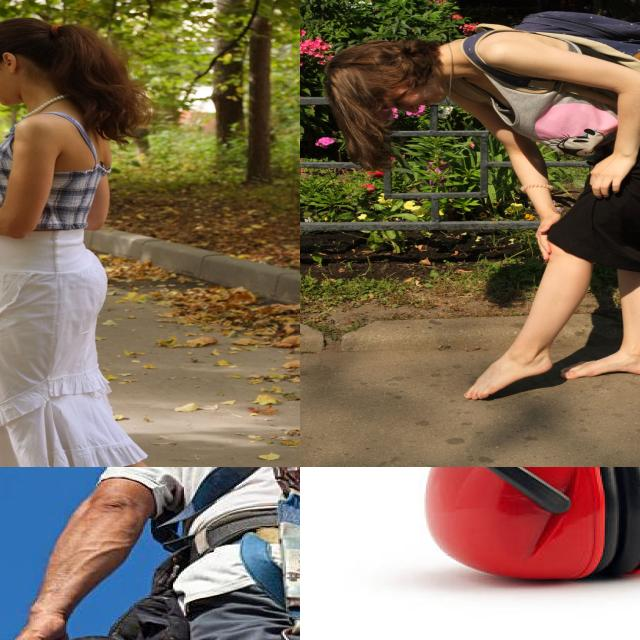Barefoots: (464, 352, 553, 400), (560, 352, 640, 379)
Ear-protection: (371, 467, 640, 585)
Harness: (241, 467, 300, 623)
